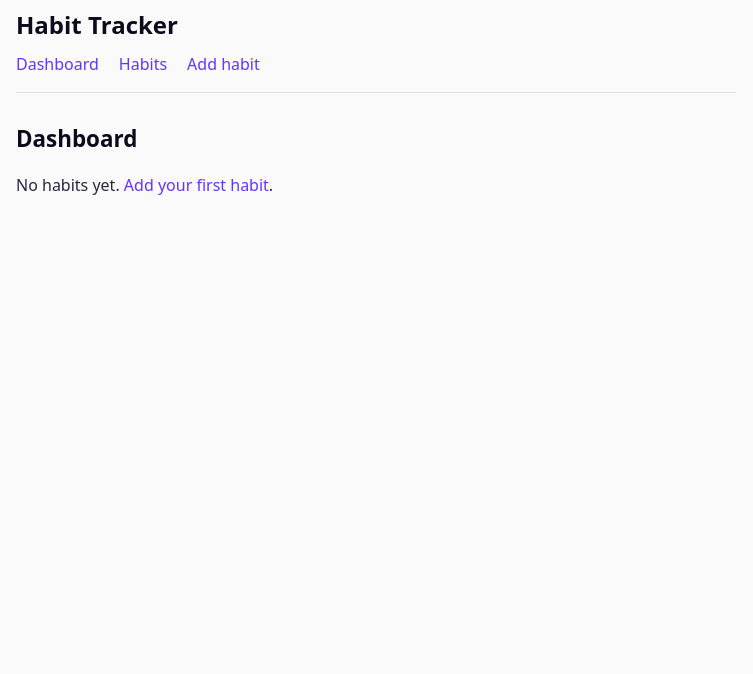
App routing › navigates to /add when the nav link is clicked
Expected: the heading "Dashboard" is shown, [16, 123, 137, 154]
What coordinates should you click on to do the following:
click the link "Add habit"
I would click on:
 (223, 64)
Its box is [187, 52, 260, 76].
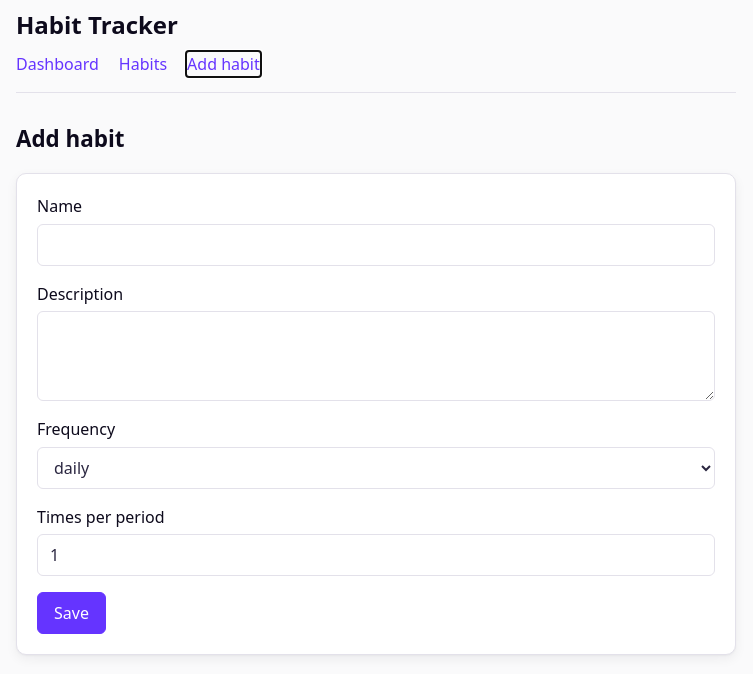
Expected: the heading "Add habit" is shown, [16, 123, 125, 154]
